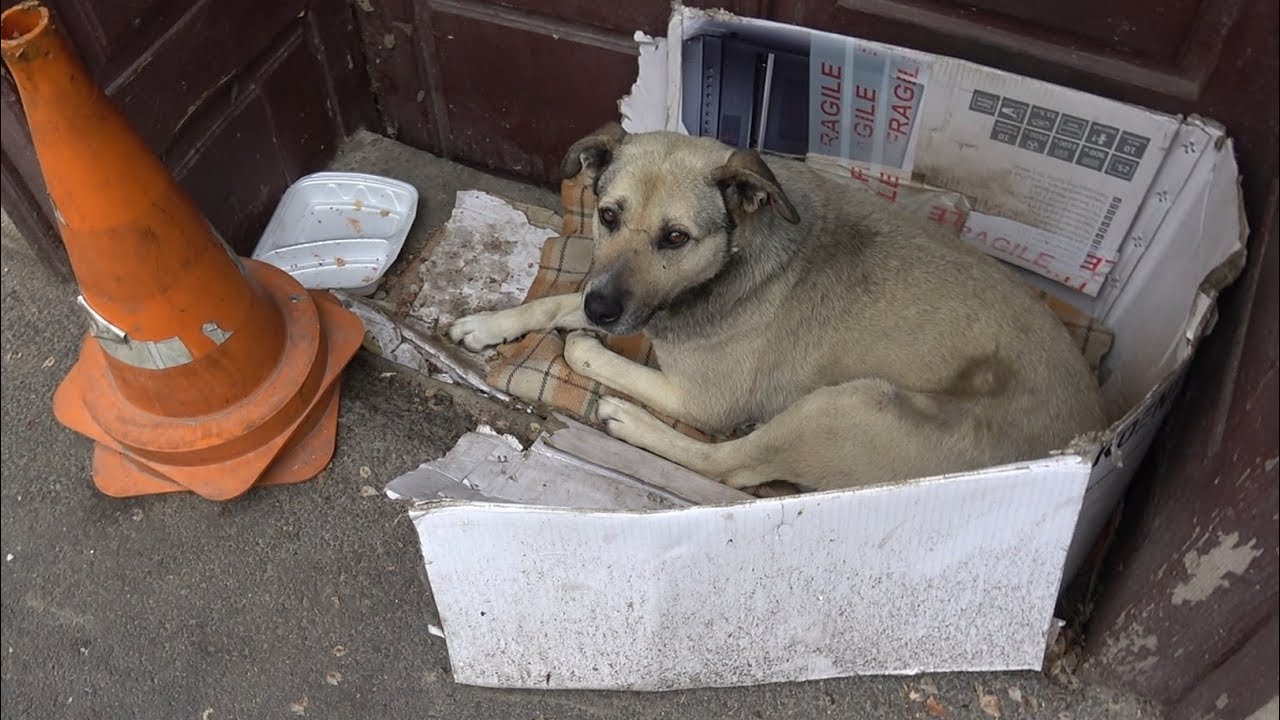Dog: (424, 94, 1127, 508)
